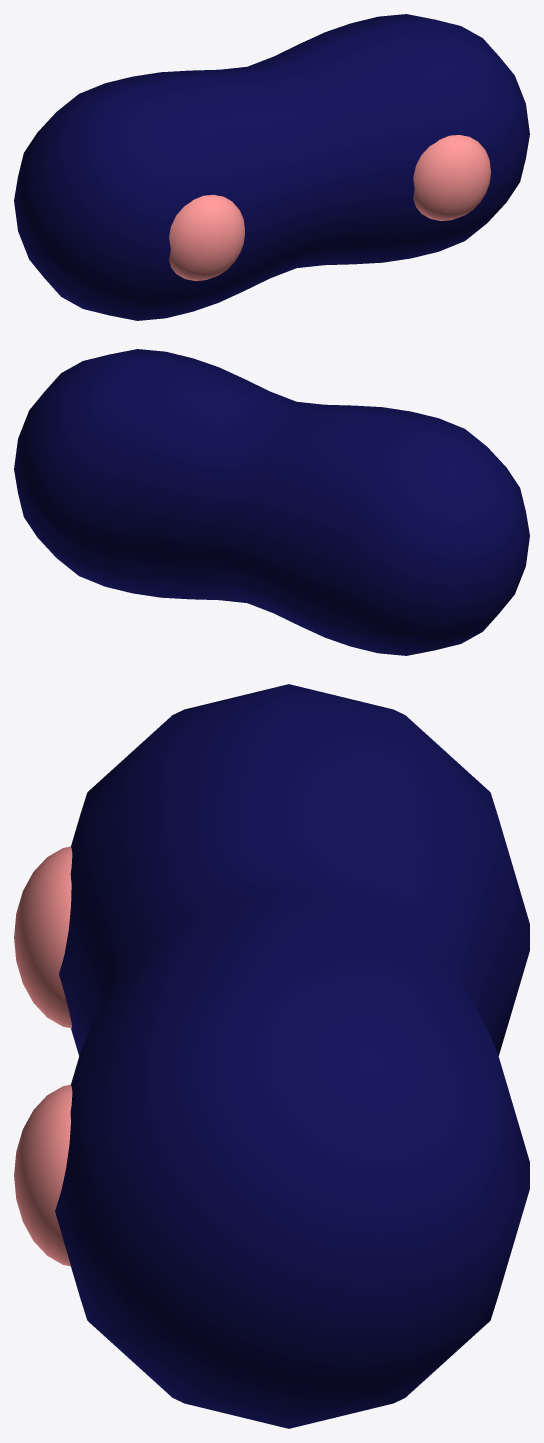
File: ooska.FBX
The picture shows the model from 3 angles, top to bottom: view 1: azimuth 30°, elevation 25°; view 2: azimuth 150°, elevation 25°; view 3: azimuth 270°, elevation 25°; orthographic projection. The views are drawn at different scales.
Visible parts, largest first — view 1: Capsule001, Sphere001; view 2: Capsule001; view 3: Capsule001, Sphere001.
Boxes of the visible parts, bbox=[...] form: Capsule001: bbox=[14, 14, 529, 320]; Sphere001: bbox=[169, 135, 490, 280]; Capsule001: bbox=[14, 349, 529, 655]; Capsule001: bbox=[55, 684, 529, 1428]; Sphere001: bbox=[14, 846, 72, 1266].
Bounding box in the file's own units: 15.93 × 6.93 × 7.42.
